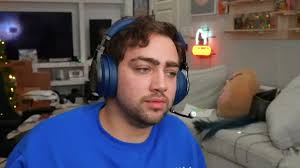person: (4, 14, 208, 166)
